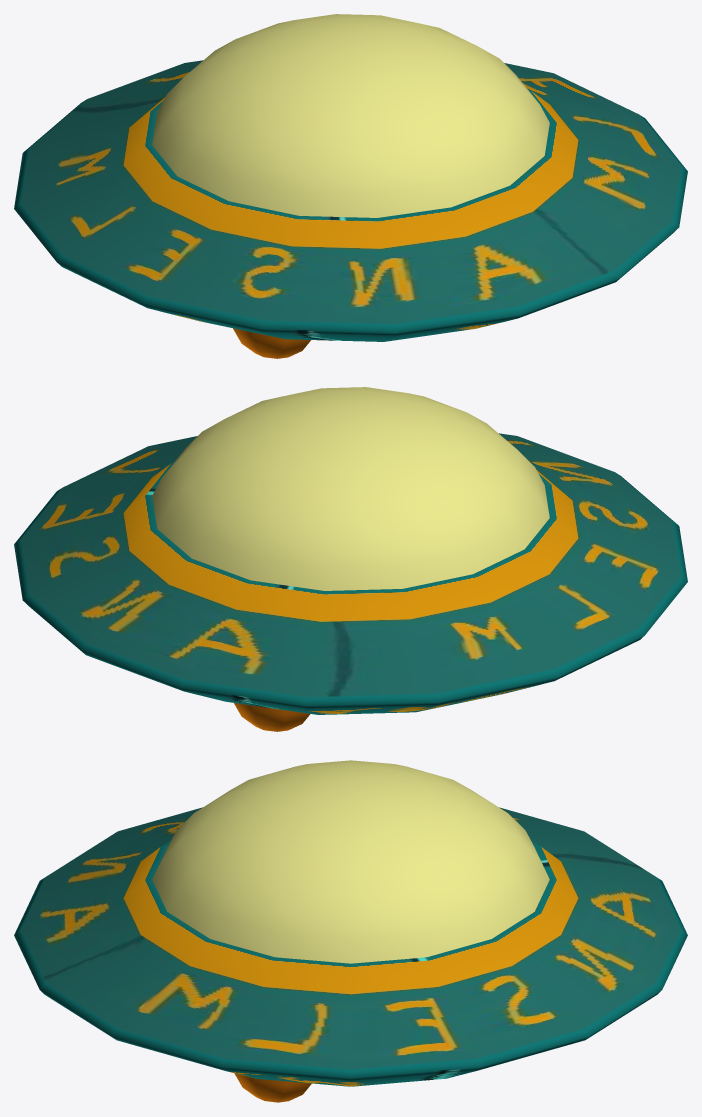
The picture shows the model from 3 angles, top to bottom: view 1: azimuth 30°, elevation 25°; view 2: azimuth 150°, elevation 25°; view 3: azimuth 270°, elevation 25°; orthographic projection.
Parts seen in each view (by area): view 1: Saucer; view 2: Saucer; view 3: Saucer.
Part boxes in pixels (left/top/right/bottom): Saucer: left=14, top=14, right=687, bottom=358; Saucer: left=14, top=387, right=687, bottom=731; Saucer: left=14, top=760, right=687, bottom=1102.
Size of the model in its own units: 5.2 by 2.17 by 5.2.
Materials: 4 (1 with a texture image).
